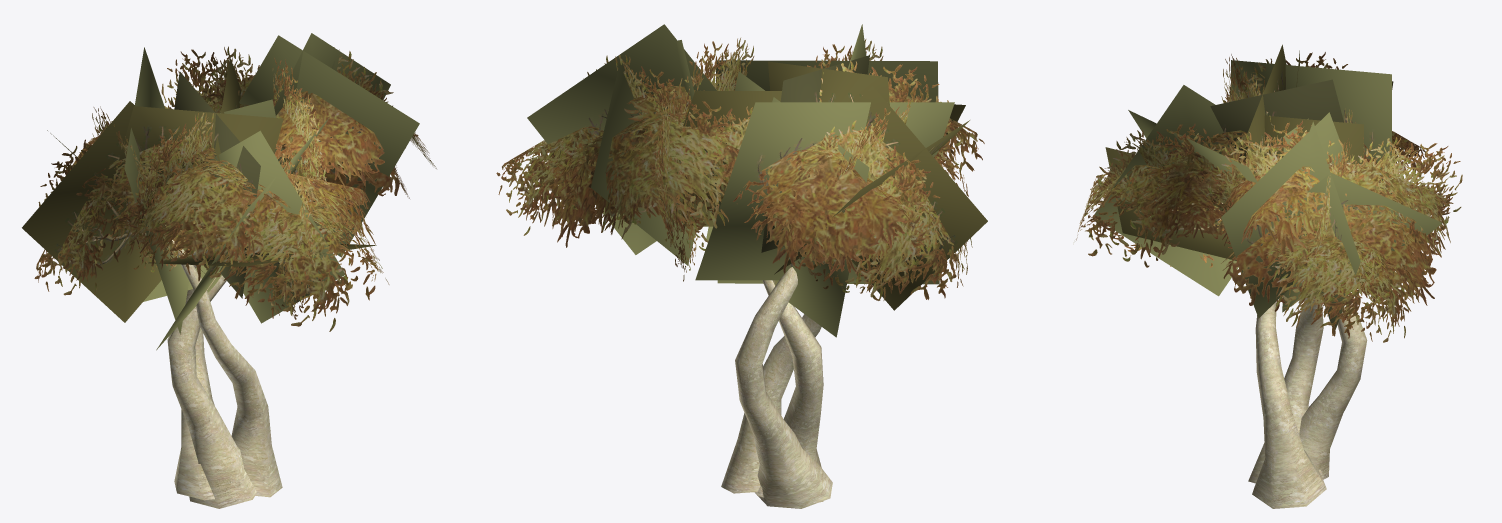
The model's file is decd_windswept_a2_l0.fbx.
3 renders of one model, left to right at view 1: azimuth 30°, elevation 25°; view 2: azimuth 150°, elevation 25°; view 3: azimuth 270°, elevation 25°, orthographic. The views are drawn at different scales.
Visible parts, largest first — view 1: mesh_node; view 2: mesh_node; view 3: mesh_node.
Boxes of the visible parts, x1,y1,x2,y2 form: mesh_node: [22, 33, 436, 508]; mesh_node: [496, 24, 987, 508]; mesh_node: [1076, 44, 1462, 508].
Bounding box in the file's own units: 7.76 × 7.34 × 6.87.
